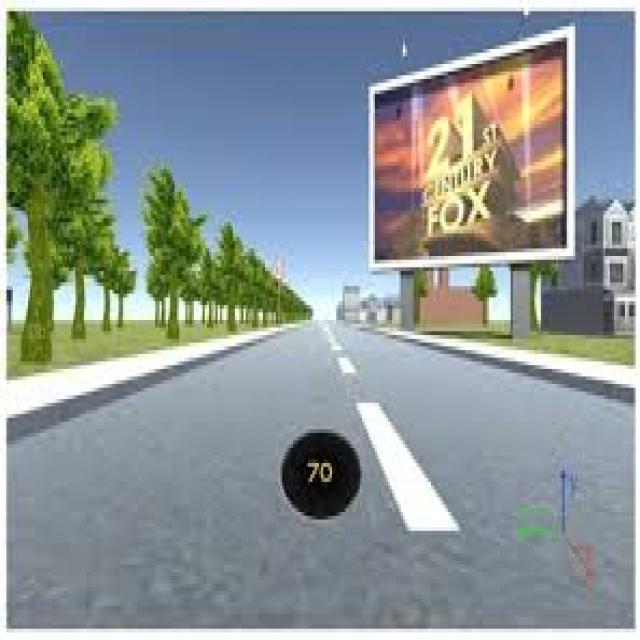Billboard_RHS: (356, 19, 581, 270)
Roadcorner: (11, 322, 269, 447), (400, 320, 638, 423)
Roadlane: (308, 310, 506, 597)
